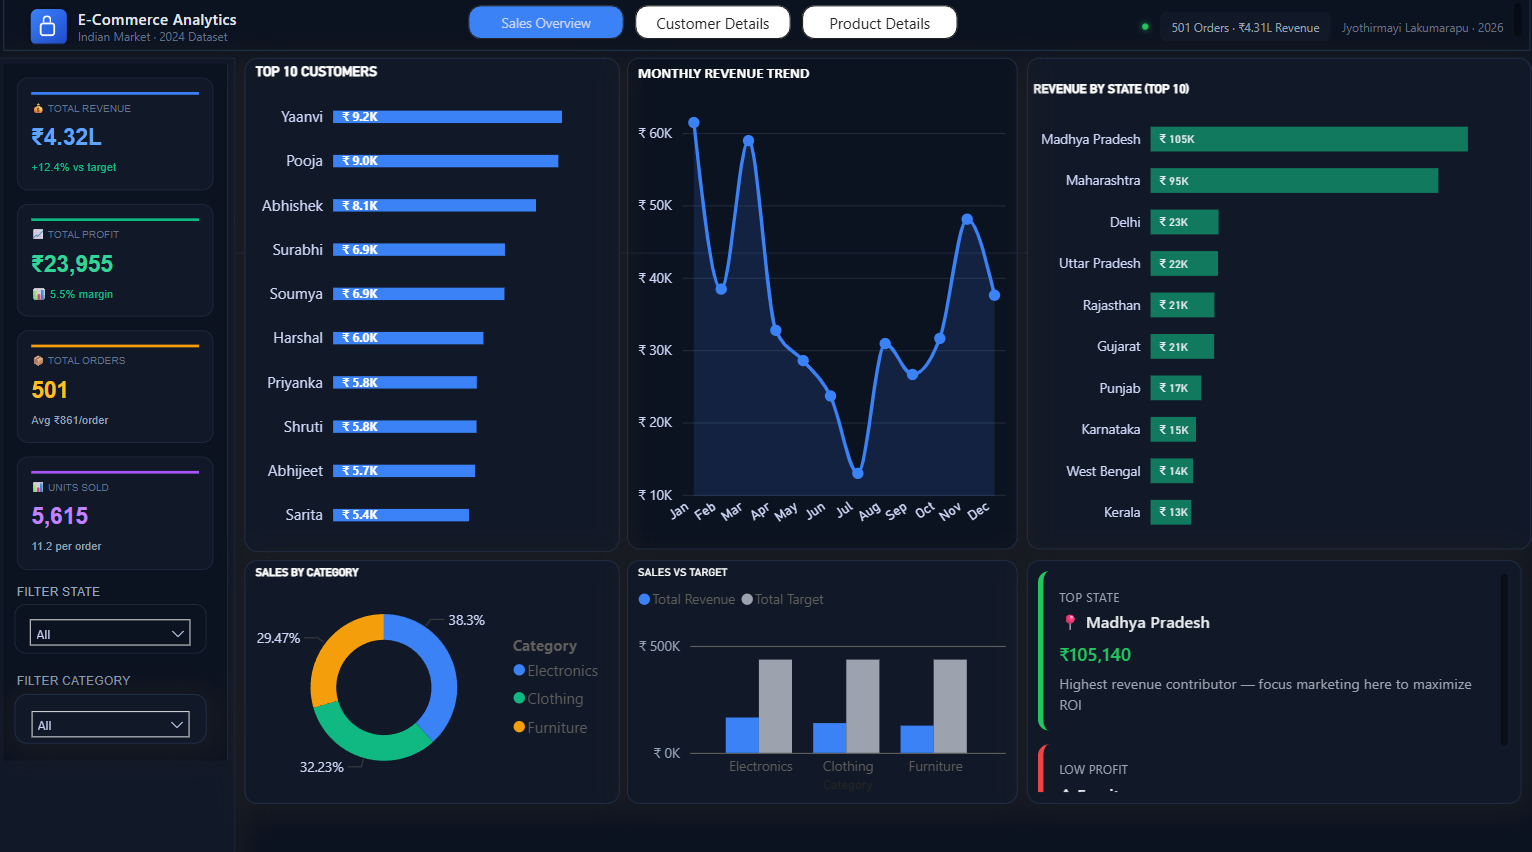

This screenshot's page, from the dashboard's own definition file:
{"tool":"powerbi","page":{"name":"Sales Overview","canvas":[1366,768],"ordinal":0},"visuals":[{"type":"STANDALONEhtmlContent443BE3AD55E043BF878BED274D3A6855","fields":{"content":["List of Orders.Header Pixel Perfect"]},"box":[6,0,1354,50],"z":0},{"type":"STANDALONEhtmlContent443BE3AD55E043BF878BED274D3A6855","fields":{"content":["List of Orders.Header Pixel Perfect"]},"box":[5,177,1355,163],"z":1000},{"type":"STANDALONEhtmlContent443BE3AD55E043BF878BED274D3A6855","fields":{"content":["List of Orders.Sidebar HTML"]},"box":[0,57,211,711],"z":2000},{"type":"clusteredBarChart","title":"REVENUE BY STATE (TOP 10)","fields":{"Category":["List of Orders.State"],"Y":["Order Details.Total Revenue"]},"box":[913,57,447,436],"z":3000},{"type":"clusteredBarChart","title":"TOP 10 CUSTOMERS","fields":{"Y":["Order Details.Total Revenue"],"Category":["List of Orders.CustomerName"]},"box":[219,57,333,438],"z":4000},{"type":"donutChart","title":"SALES BY CATEGORY","fields":{"Category":["Sales target.Category"],"Y":["Order Details.Total Revenue"]},"box":[219,502,333,216],"z":5000},{"type":"lineChart","title":"MONTHLY REVENUE TREND","fields":{"Y":["Order Details.Total Revenue"],"Category":["List of Orders.Month Short"]},"box":[559,57,346,436],"z":6000},{"type":"clusteredColumnChart","title":"SALES VS TARGET","fields":{"Category":["Order Details.Category"],"Y":["Order Details.Total Revenue","Sales target.Total Target"]},"box":[559,502,346,216],"z":7000},{"type":"slicer","fields":{"Values":["List of Orders.State"]},"box":[16,541,170,44],"z":8000},{"type":"STANDALONEhtmlContent443BE3AD55E043BF878BED274D3A6855","fields":{"content":["List of Orders.All Insights"]},"box":[913,502,438,216],"z":9000},{"type":"slicer","fields":{"Values":["Sales target.Category"]},"box":[16,621,170,44],"z":10000},{"type":"pageNavigator","box":[418,10,436,30],"z":11000}]}

Visuals, with their boxes in screenshot pixels (x1, y1, x2, y2), scaled from the page's 1366x768 canvas onto the 1532x852 screenshot:
STANDALONEhtmlContent443BE3AD55E043BF878BED274D3A6855 - List of Orders.Header Pixel Perfect: bbox=[7, 0, 1525, 55]
STANDALONEhtmlContent443BE3AD55E043BF878BED274D3A6855 - List of Orders.Header Pixel Perfect: bbox=[6, 196, 1525, 377]
STANDALONEhtmlContent443BE3AD55E043BF878BED274D3A6855 - List of Orders.Sidebar HTML: bbox=[0, 63, 237, 851]
"REVENUE BY STATE (TOP 10)" clusteredBarChart: bbox=[1024, 63, 1525, 547]
"TOP 10 CUSTOMERS" clusteredBarChart: bbox=[246, 63, 619, 549]
"SALES BY CATEGORY" donutChart: bbox=[246, 557, 619, 797]
"MONTHLY REVENUE TREND" lineChart: bbox=[627, 63, 1015, 547]
"SALES VS TARGET" clusteredColumnChart: bbox=[627, 557, 1015, 797]
slicer - List of Orders.State: bbox=[18, 600, 209, 649]
STANDALONEhtmlContent443BE3AD55E043BF878BED274D3A6855 - List of Orders.All Insights: bbox=[1024, 557, 1515, 797]
slicer - Sales target.Category: bbox=[18, 689, 209, 738]
pageNavigator: bbox=[469, 11, 958, 44]
